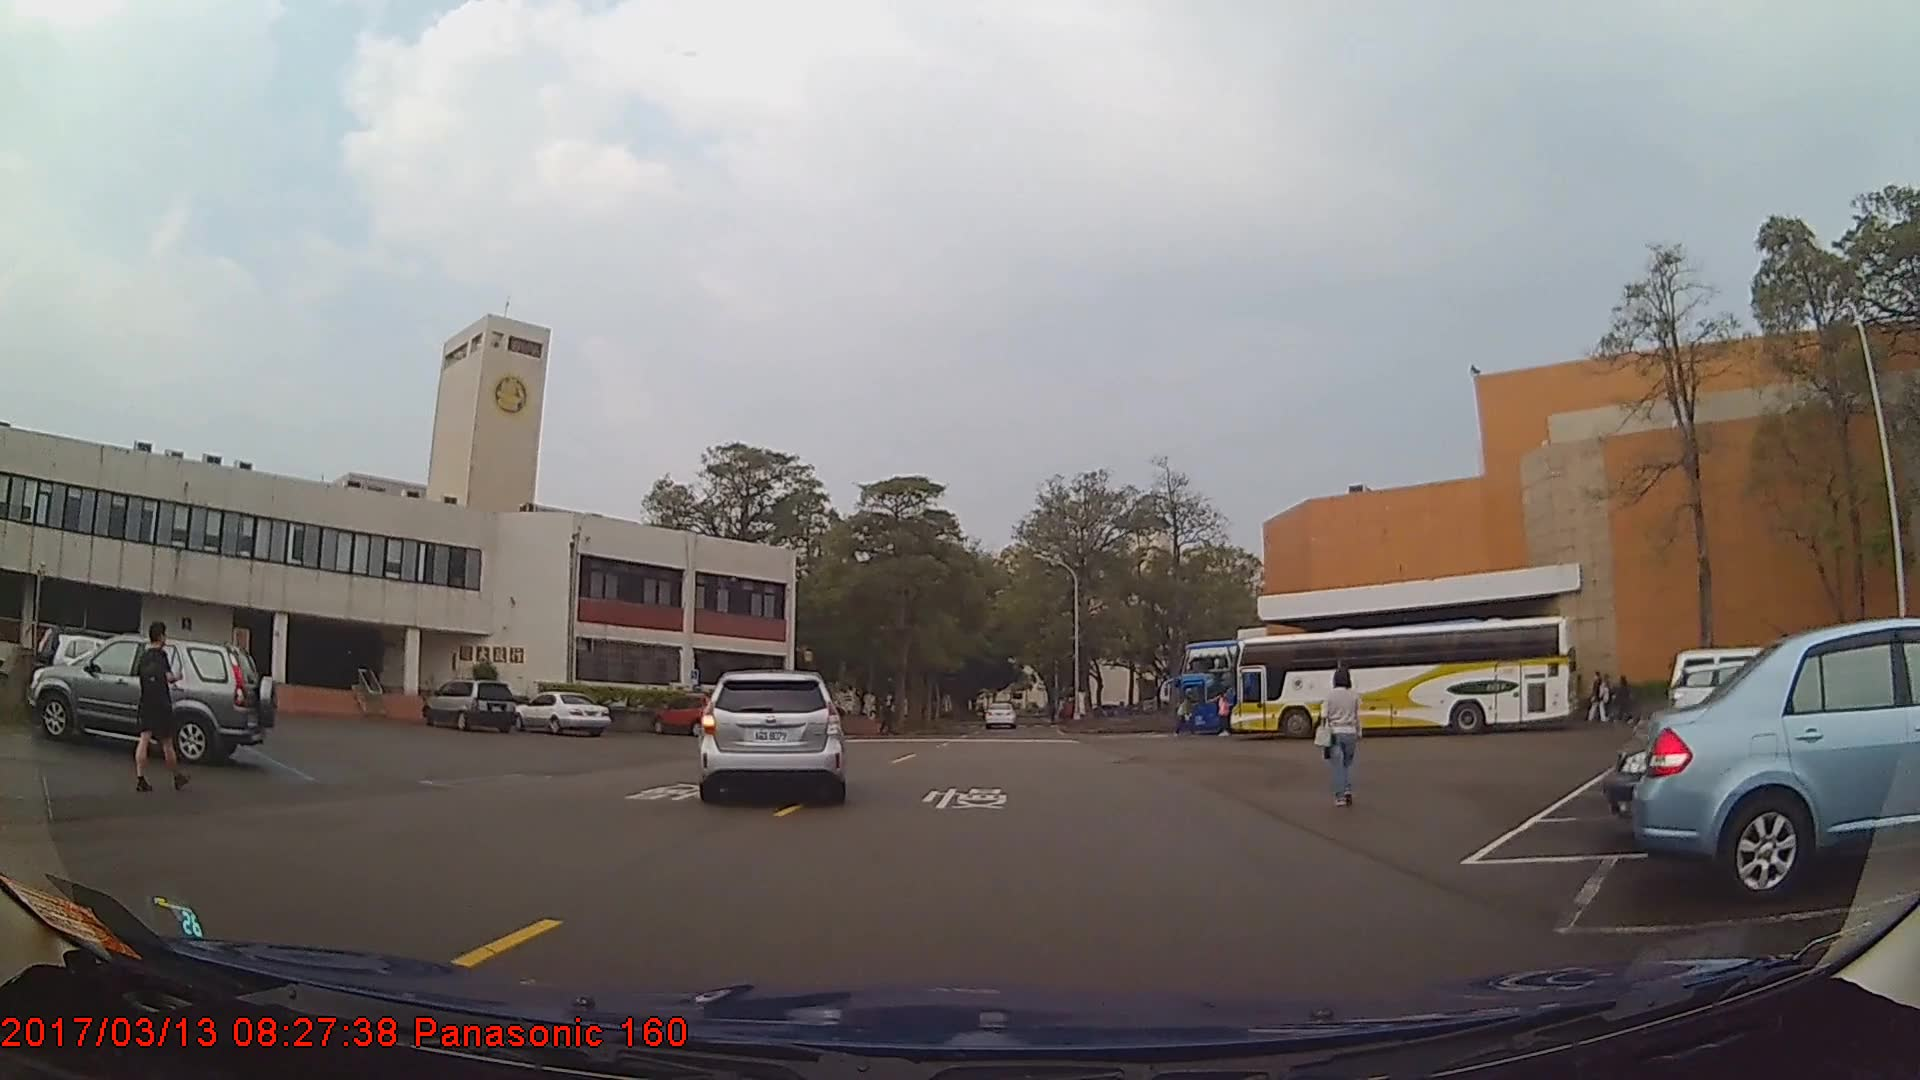pedestrian: (127, 617, 182, 791), (1313, 669, 1363, 807), (1609, 669, 1639, 728)
vehicle: (1634, 619, 1920, 905), (1226, 614, 1575, 741), (28, 634, 277, 763), (1172, 639, 1455, 735), (700, 668, 843, 801), (421, 677, 516, 731), (509, 690, 611, 735), (651, 692, 724, 737), (984, 703, 1017, 730)
